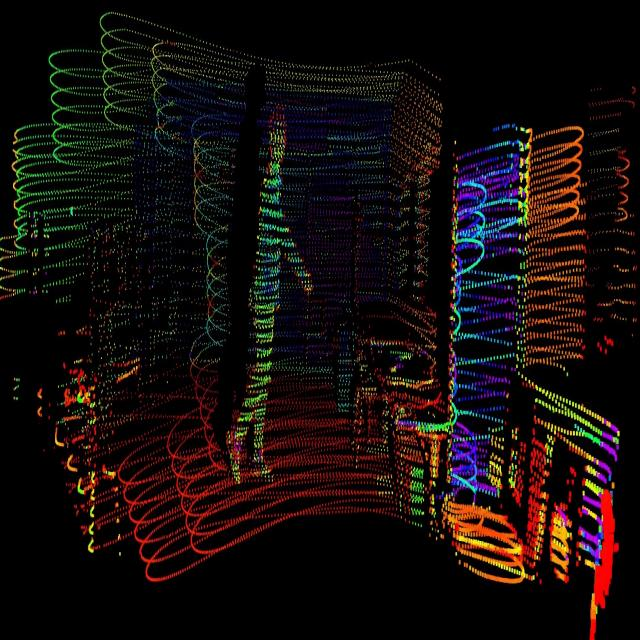human: (226, 95, 315, 479)
